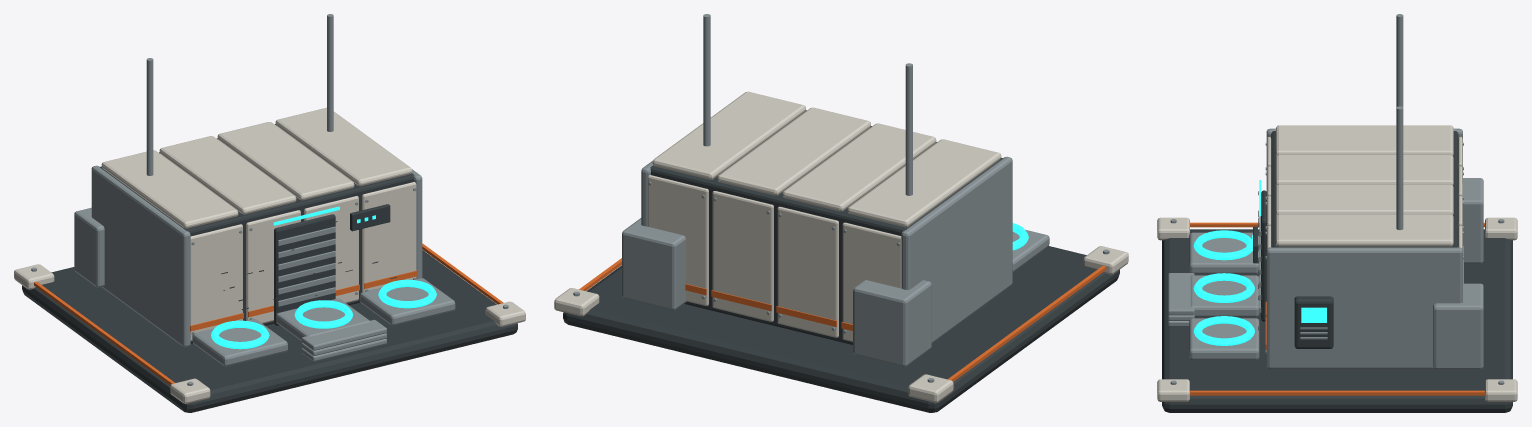
Rendered from SM_LogisticsHub_Body.002.fbx.
The picture shows the model from 3 angles, left to right: view 1: azimuth 30°, elevation 25°; view 2: azimuth 150°, elevation 25°; view 3: azimuth 270°, elevation 25°; orthographic projection. The views are drawn at different scales.
Visible parts, largest first — view 1: SM_LogisticsHub_Body.002; view 2: SM_LogisticsHub_Body.002; view 3: SM_LogisticsHub_Body.002.
Part boxes in pixels (left/top/right/bottom): SM_LogisticsHub_Body.002: left=14, top=14, right=525, bottom=412; SM_LogisticsHub_Body.002: left=554, top=14, right=1128, bottom=412; SM_LogisticsHub_Body.002: left=1157, top=14, right=1517, bottom=412.
Bounding box in the file's own units: 532 × 462 × 380.
